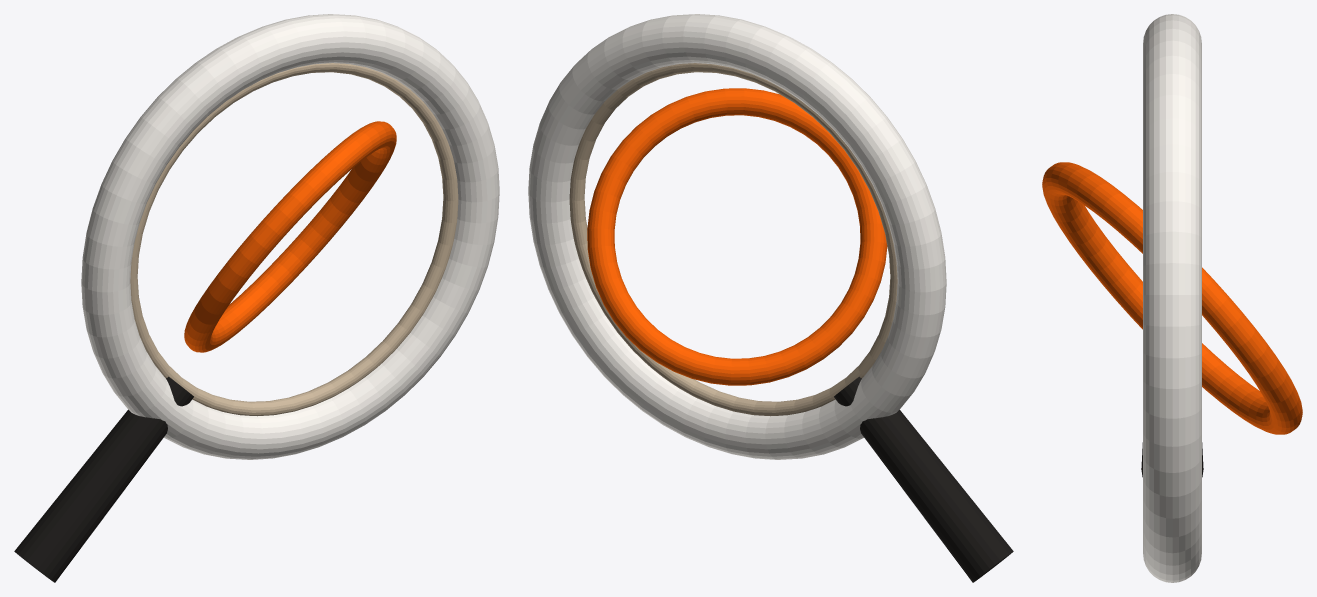
The model's file is qualification-loupe.glb.
3 renders of one model, left to right at view 1: azimuth 30°, elevation 25°; view 2: azimuth 150°, elevation 25°; view 3: azimuth 270°, elevation 25°, orthographic. The views are drawn at different scales.
Parts seen in each view (by area): view 1: loupe_ceramic_bezel, loupe_signal_torus, loupe_brass_ring, loupe_handle; view 2: loupe_ceramic_bezel, loupe_signal_torus, loupe_brass_ring, loupe_handle; view 3: loupe_ceramic_bezel, loupe_signal_torus.
Part boxes in pixels (bbox=[...]): loupe_ceramic_bezel: bbox=[81, 14, 499, 459]; loupe_signal_torus: bbox=[184, 121, 396, 352]; loupe_brass_ring: bbox=[130, 63, 458, 416]; loupe_handle: bbox=[14, 376, 193, 582]; loupe_ceramic_bezel: bbox=[528, 14, 946, 459]; loupe_signal_torus: bbox=[587, 88, 887, 385]; loupe_brass_ring: bbox=[569, 63, 897, 416]; loupe_handle: bbox=[834, 376, 1013, 582]; loupe_ceramic_bezel: bbox=[1143, 14, 1201, 582]; loupe_signal_torus: bbox=[1042, 162, 1302, 434].
Bounding box in the file's own units: 2.02 × 2.02 × 0.7972.
